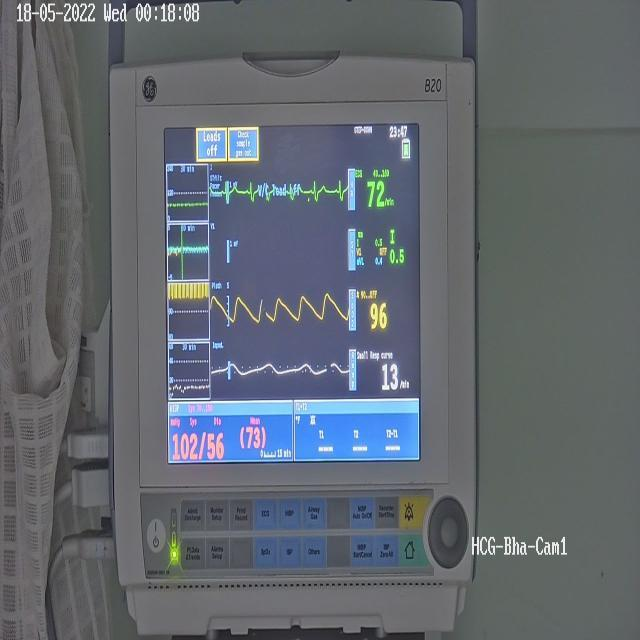Monitor: (108, 51, 478, 632)
